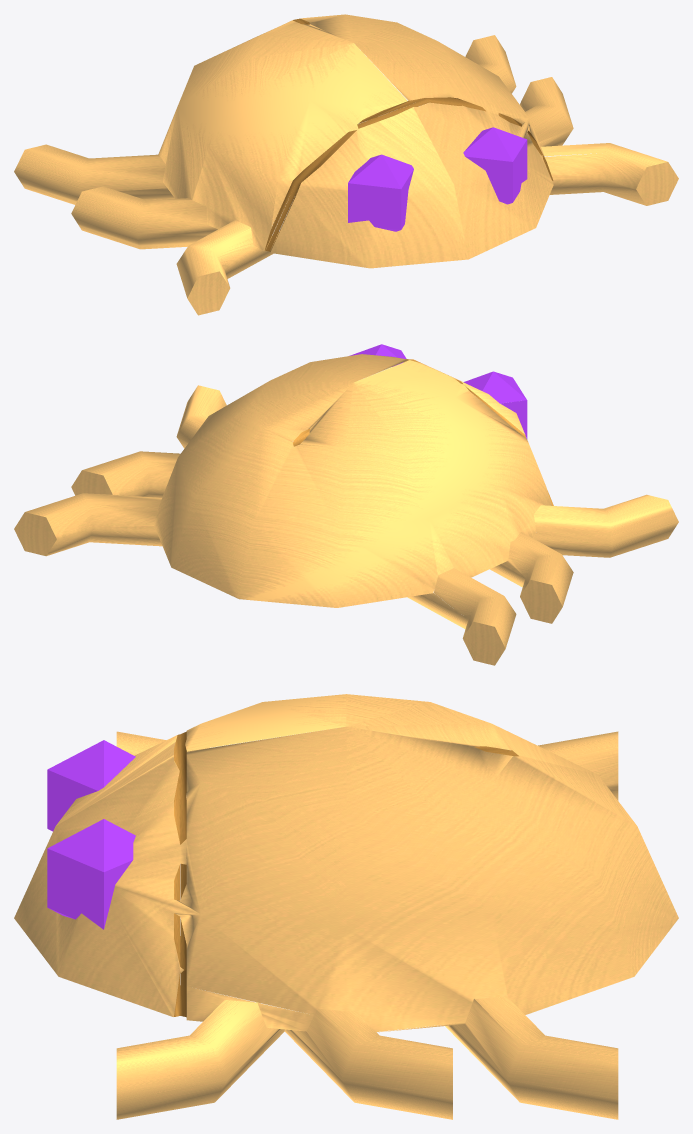
The model's file is scarab.gltf.
3 renders of one model, top to bottom at view 1: azimuth 30°, elevation 25°; view 2: azimuth 150°, elevation 25°; view 3: azimuth 270°, elevation 25°, orthographic. The views are drawn at different scales.
Parts seen in each view (by area): view 1: CSGCombiner3D2, CSGCombiner3D4; view 2: CSGCombiner3D2, CSGCombiner3D4; view 3: CSGCombiner3D2, CSGCombiner3D4.
Boxes of the visible parts, x1,y1,x2,y2 form: CSGCombiner3D2: [14, 14, 678, 315]; CSGCombiner3D4: [348, 127, 527, 231]; CSGCombiner3D2: [14, 354, 678, 665]; CSGCombiner3D4: [349, 344, 527, 438]; CSGCombiner3D2: [14, 694, 678, 1119]; CSGCombiner3D4: [47, 740, 135, 929].
Bounding box in the file's own units: 0.3962 × 0.121 × 0.3207.
5 materials, 3 textured.
